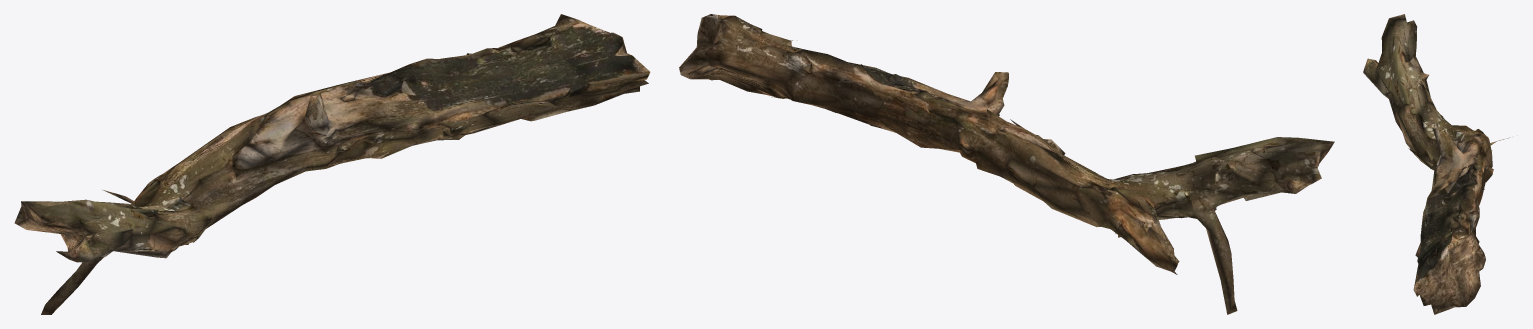
The model's file is dead_tree.glb.
3 renders of one model, left to right at view 1: azimuth 30°, elevation 25°; view 2: azimuth 150°, elevation 25°; view 3: azimuth 270°, elevation 25°, orthographic. The views are drawn at different scales.
Visible parts, largest first — view 1: dead_tree_trunk_02; view 2: dead_tree_trunk_02; view 3: dead_tree_trunk_02.
Boxes of the visible parts, x1,y1,x2,y2 form: dead_tree_trunk_02: (14,14,650,314); dead_tree_trunk_02: (679,14,1334,314); dead_tree_trunk_02: (1363,14,1509,314).
Bounding box in the file's own units: 4.05 × 1.04 × 1.05.
1 material, 1 textured.
